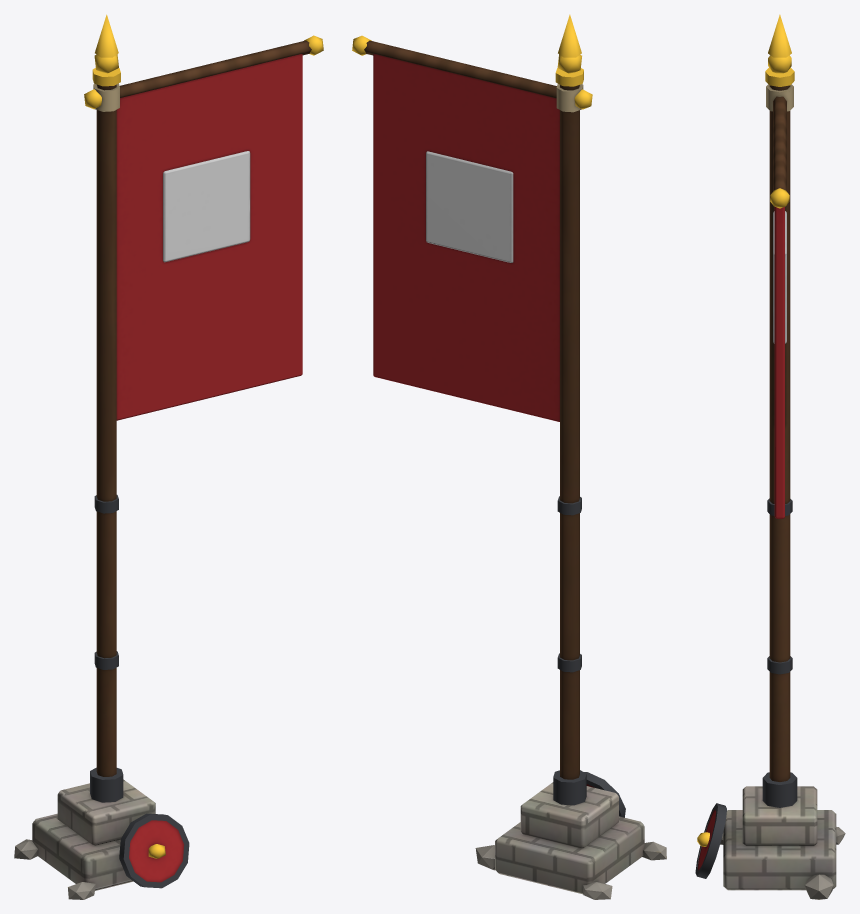
The model's file is banner_red.glb.
3 views of the same model, side by side, from view 1: azimuth 30°, elevation 25°; view 2: azimuth 150°, elevation 25°; view 3: azimuth 270°, elevation 25° (orthographic).
Parts seen in each view (by area): view 1: cloth; view 2: cloth; view 3: cloth.
Part boxes in pixels (box(x1,y1,x2,y2)): cloth: box(14, 14, 323, 899); cloth: box(352, 14, 666, 899); cloth: box(695, 14, 845, 899).
Size of the model in its own units: 0.3787 by 1.09 by 0.1728.
Materials: 3 (1 with a texture image).
